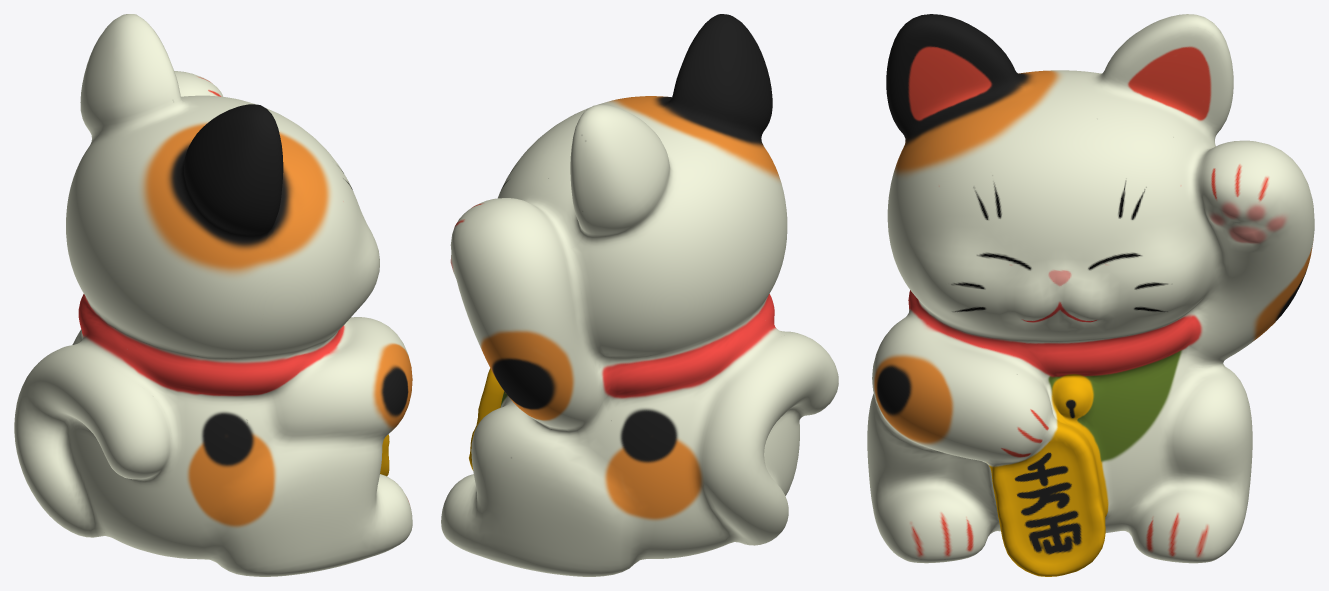
File: Nekomata.fbx
3 renders of one model, left to right at view 1: azimuth 30°, elevation 25°; view 2: azimuth 150°, elevation 25°; view 3: azimuth 270°, elevation 25°, orthographic. The views are drawn at different scales.
Parts seen in each view (by area): view 1: Retopo_Nekomata.001; view 2: Retopo_Nekomata.001; view 3: Retopo_Nekomata.001.
Boxes of the visible parts, box(x1,y1,x2,y2) form: Retopo_Nekomata.001: box(14, 14, 412, 576); Retopo_Nekomata.001: box(441, 14, 838, 576); Retopo_Nekomata.001: box(867, 14, 1314, 576).
Bounding box in the file's own units: 123 × 168 × 142.
